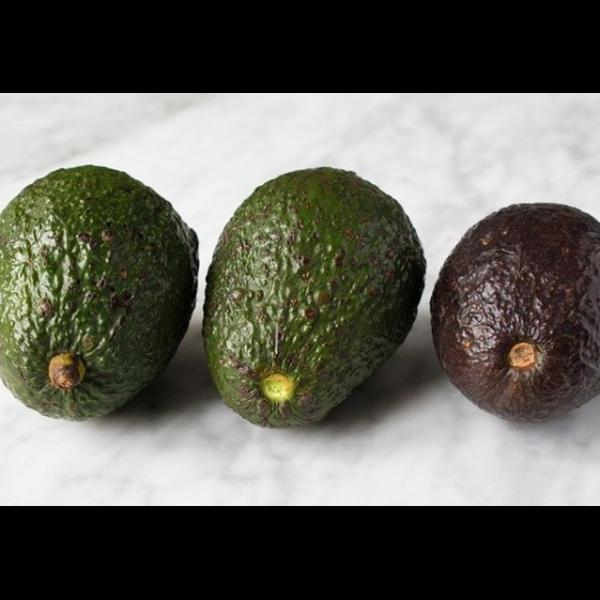ripe: (430, 203, 600, 424)
unripe: (204, 167, 427, 429), (1, 166, 199, 422)
